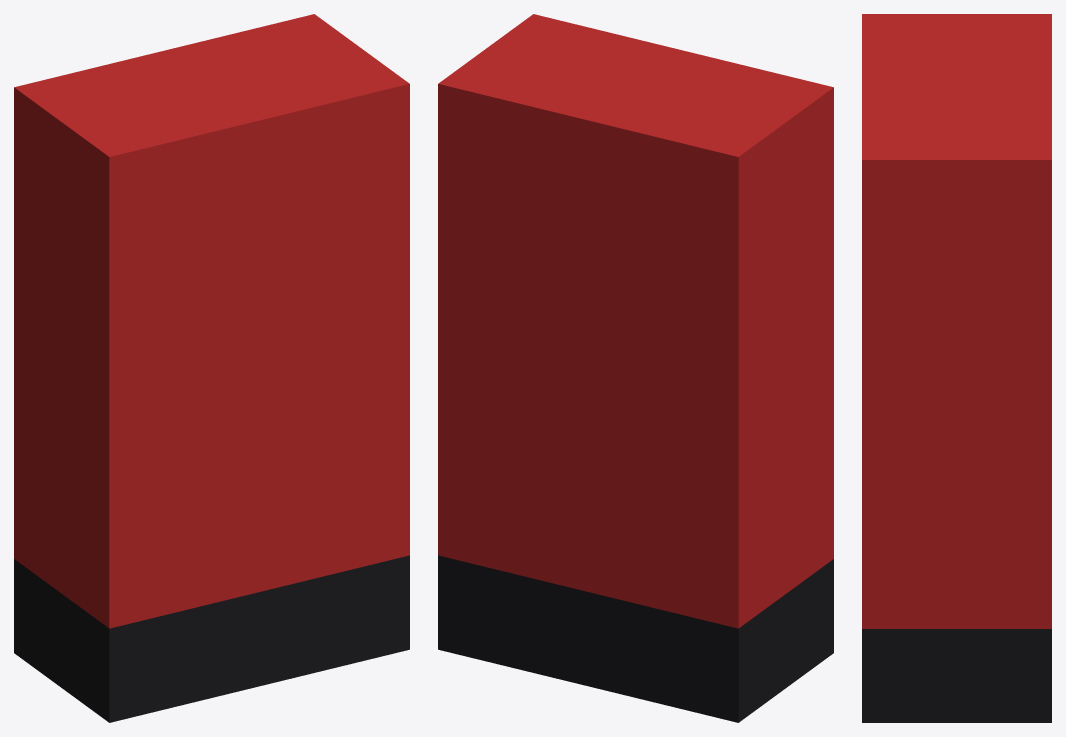
The model's file is j2_torso.obj.
3 renders of one model, left to right at view 1: azimuth 30°, elevation 25°; view 2: azimuth 150°, elevation 25°; view 3: azimuth 270°, elevation 25°, orthographic.
Bounding box in the file's own units: 0.4 × 0.72 × 0.22.
Materials: 2 (2 with a texture image).
